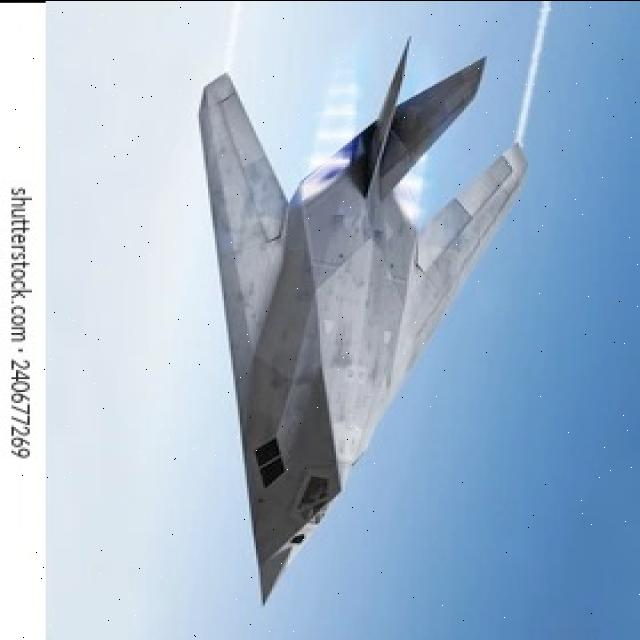F117: (193, 38, 577, 617)
